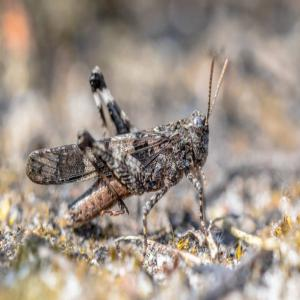locust: (27, 67, 229, 228)
